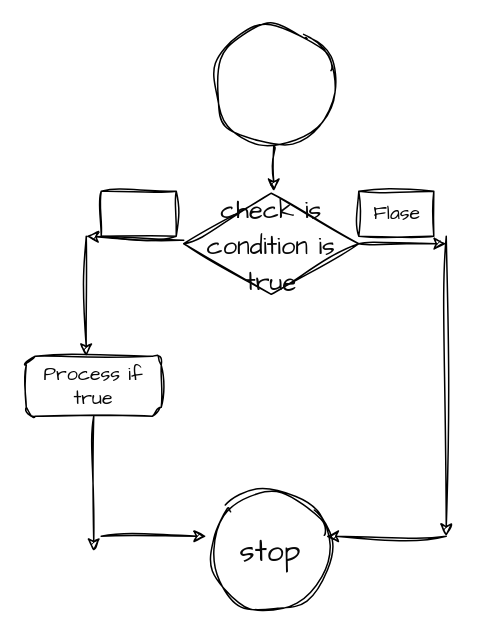
The diagram is 485 pixels wide and 638 high, and some of its shapes have lost their labels. Here are the shapes that lost their labels. From the top down, the centre of each, then its label:
At (273,85): "start".
At (138,213): "True".
